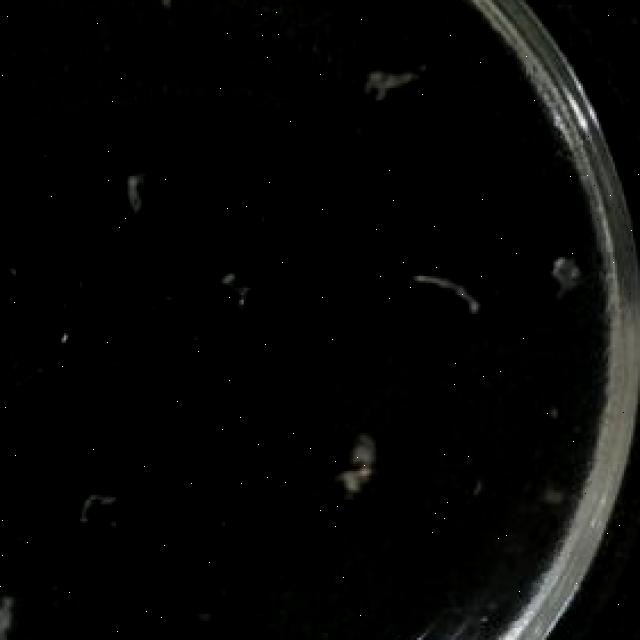Microplastic: (396, 252, 501, 331), (328, 428, 385, 524), (351, 50, 424, 95), (109, 155, 157, 214), (533, 238, 583, 288), (0, 583, 39, 640)
